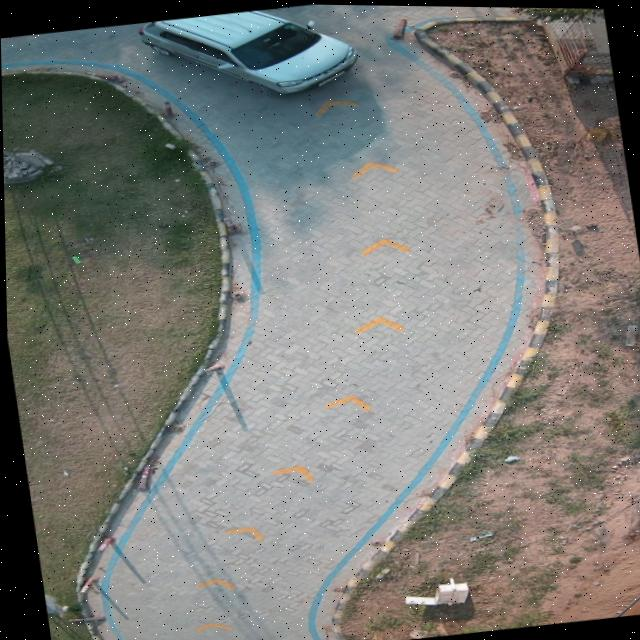car: (139, 8, 356, 91)
